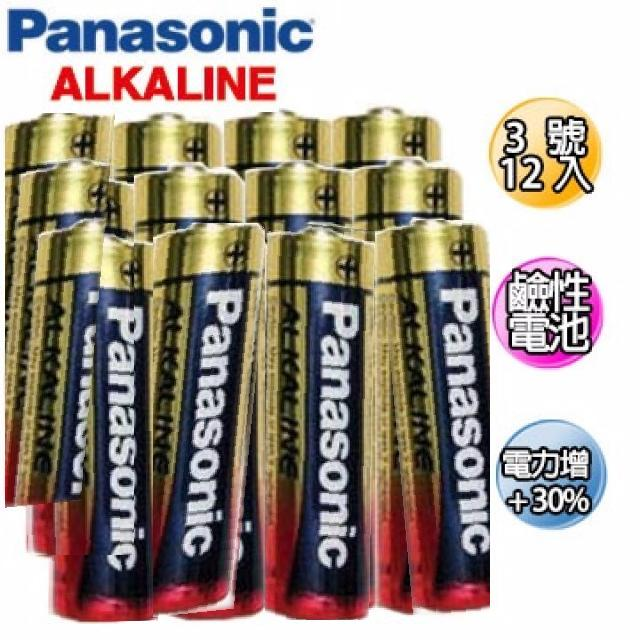battery: (153, 224, 272, 622), (378, 220, 491, 618), (47, 223, 158, 621), (5, 113, 116, 511), (266, 220, 376, 620), (22, 164, 134, 556)
